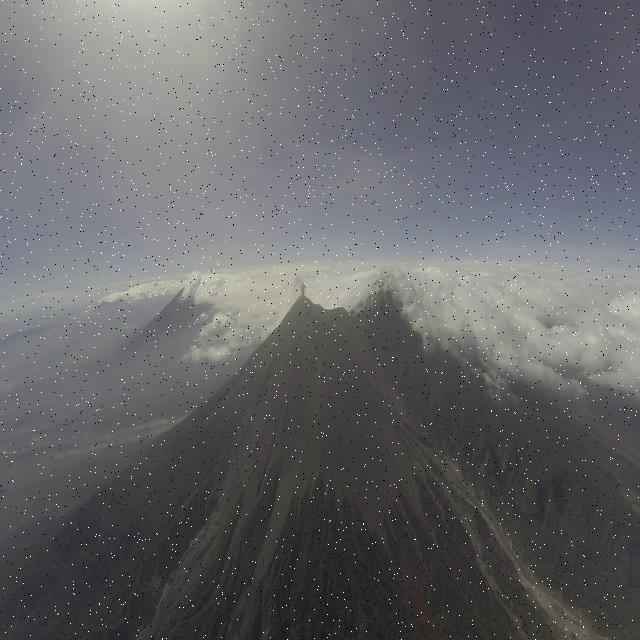Plume: (300, 281, 306, 295)
Summit: (284, 296, 324, 318)
